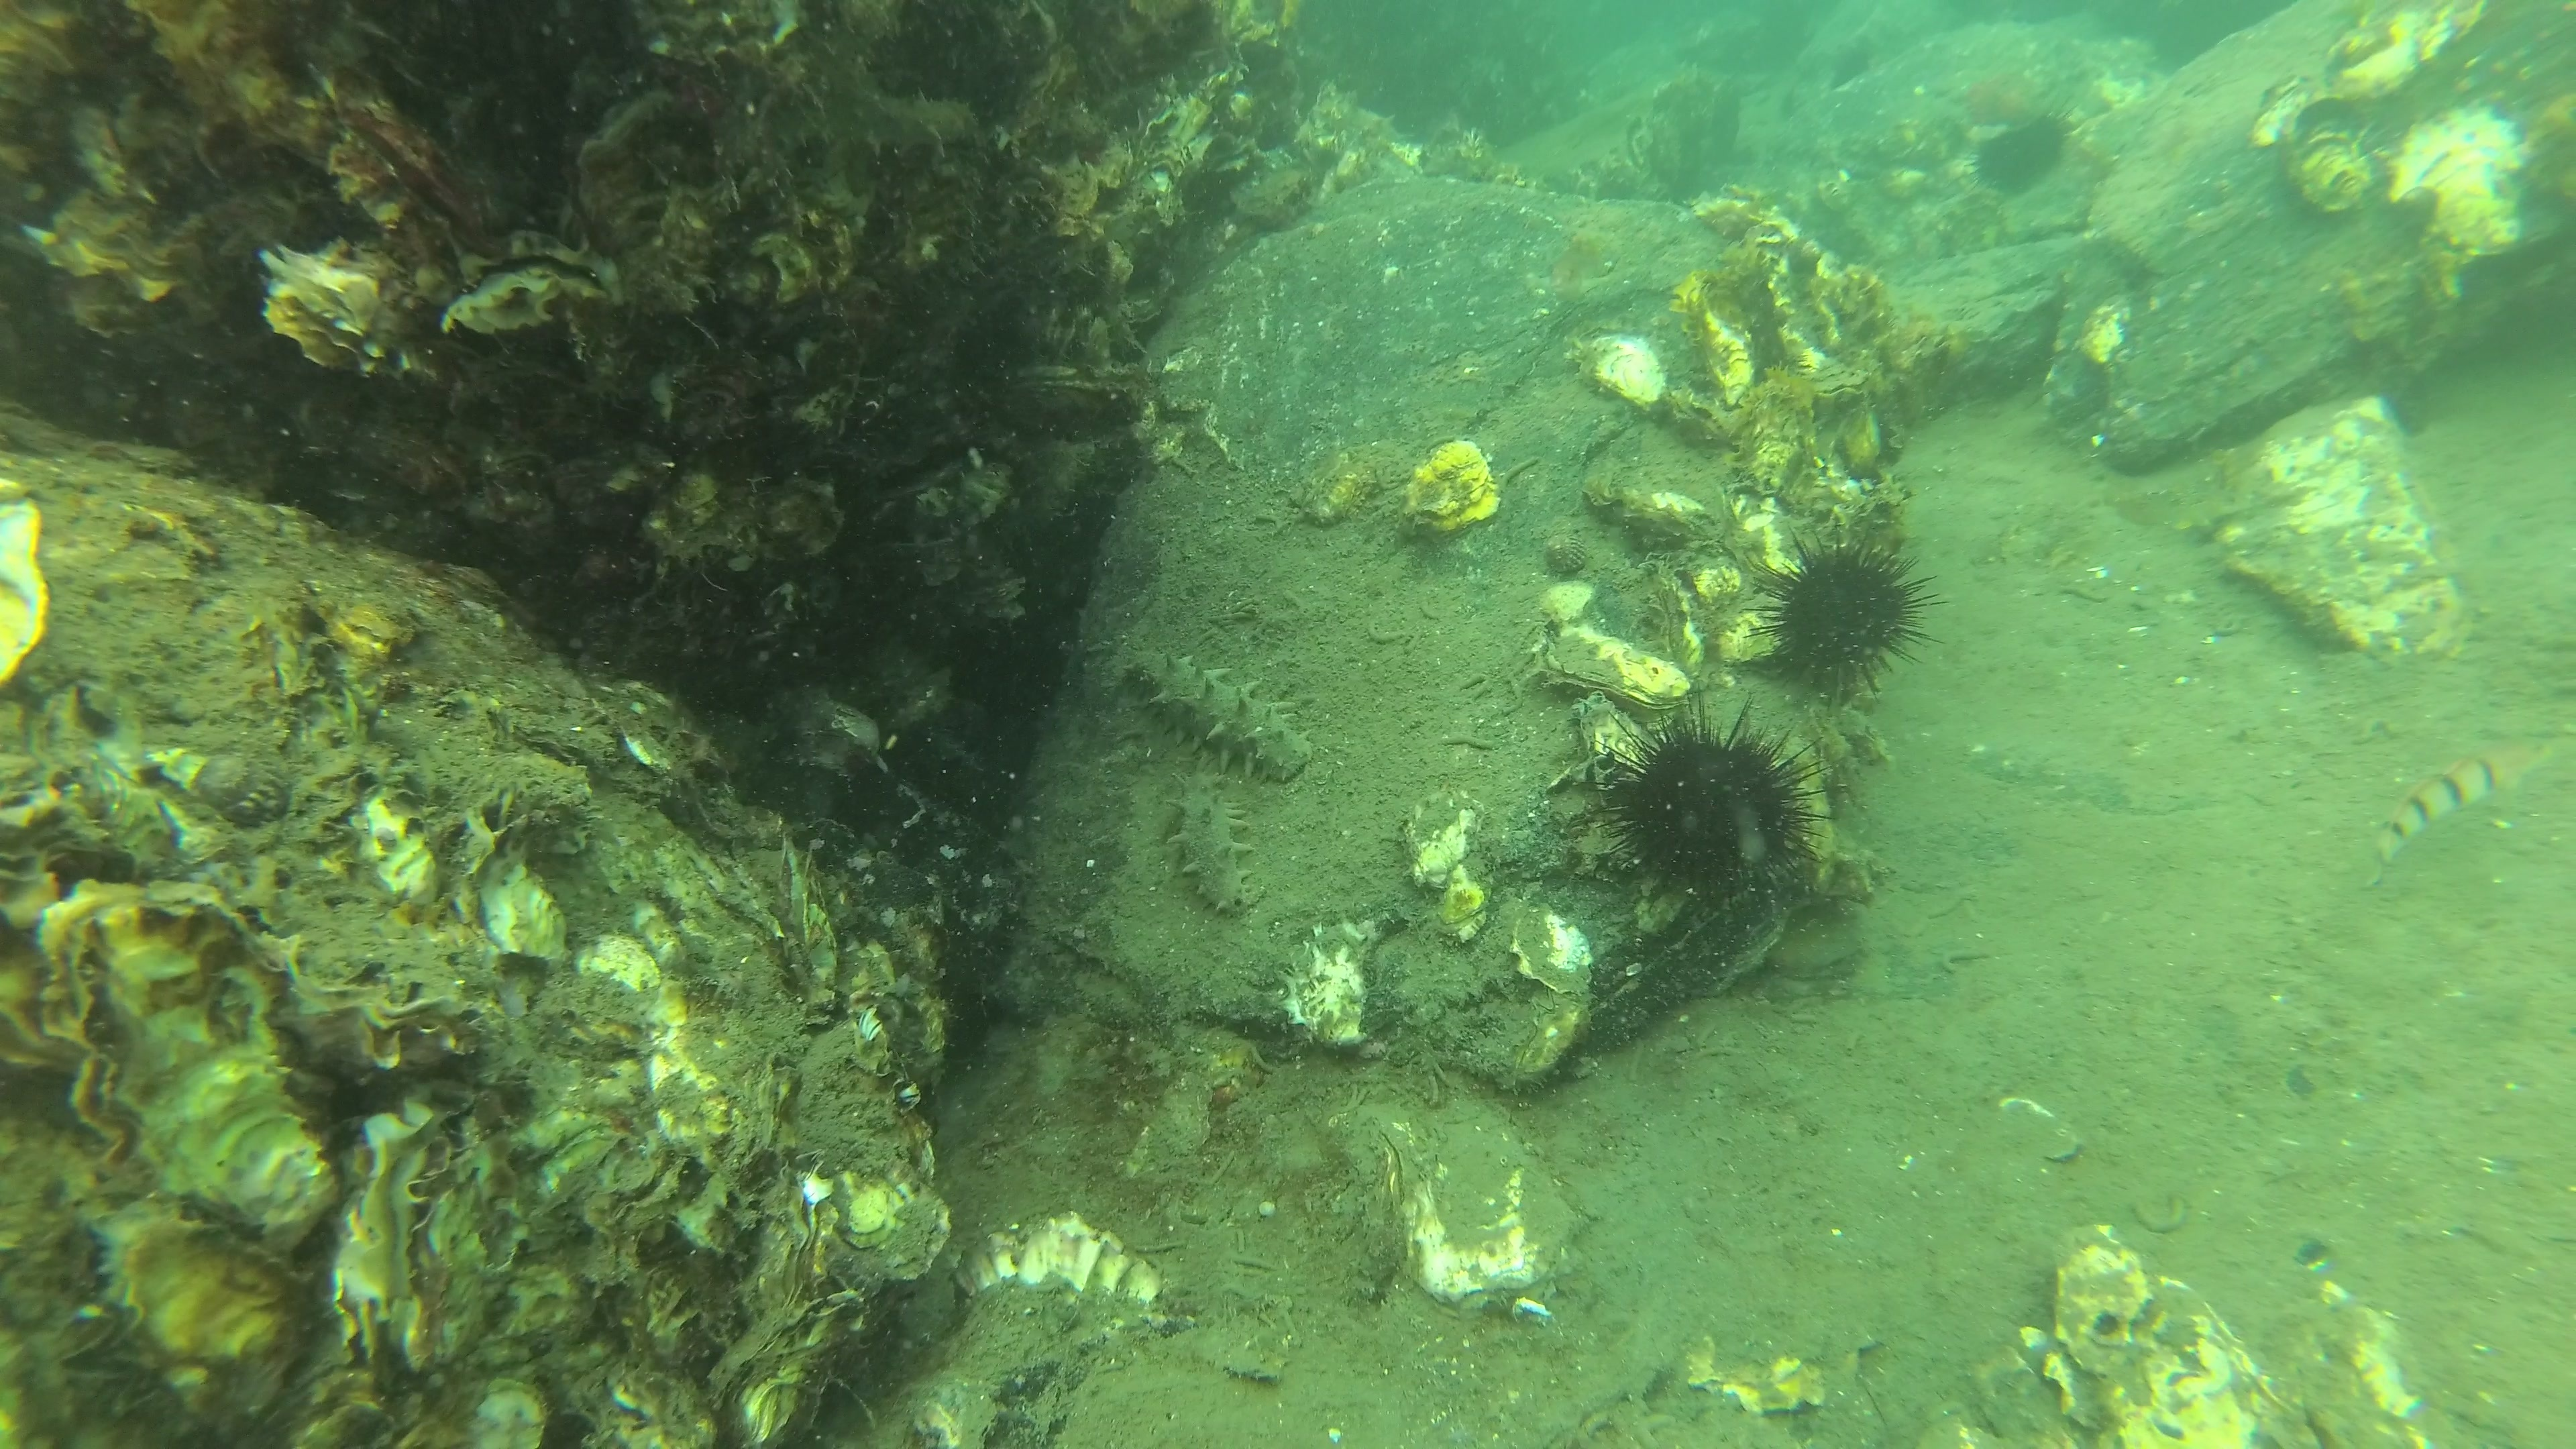echinus: (1580, 699, 1831, 929), (1757, 513, 1939, 697), (1960, 111, 2072, 202)
holothurian: (1120, 644, 1318, 789), (1166, 757, 1263, 916)
scallop: (1522, 610, 1700, 715)
